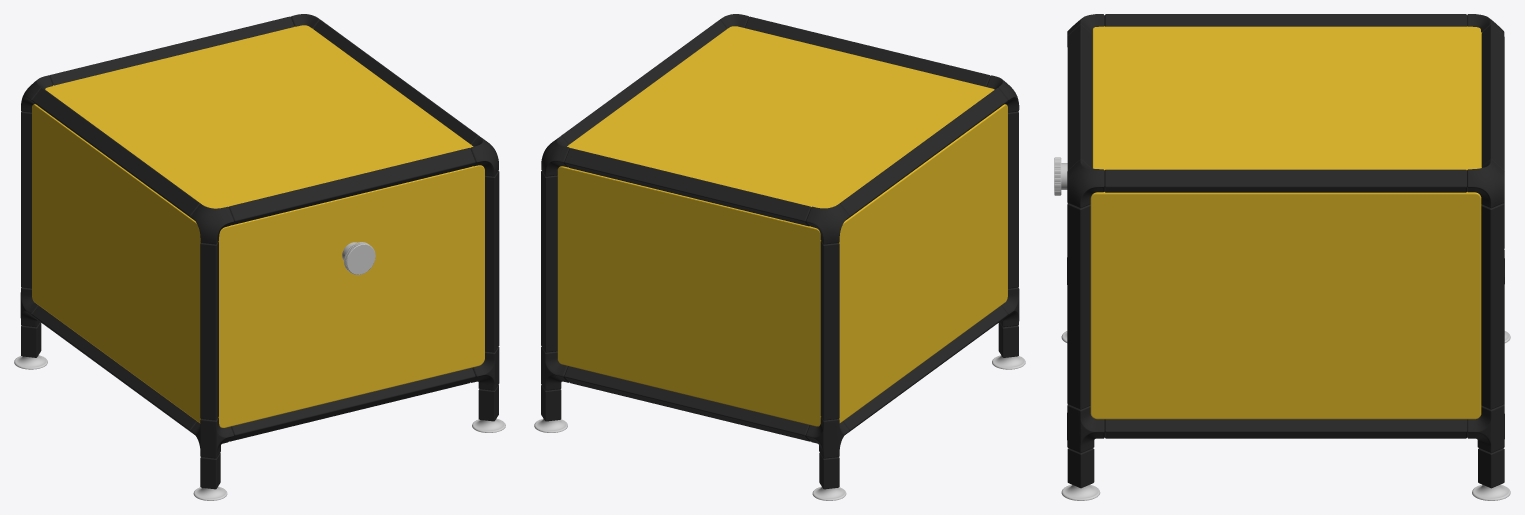
3 views of the same model, side by side, from view 1: azimuth 30°, elevation 25°; view 2: azimuth 150°, elevation 25°; view 3: azimuth 270°, elevation 25° (orthographic). The views are drawn at different scales.
Parts seen in each view (by area): view 1: 329x374x229; view 2: 329x374x229; view 3: 329x374x229.
Part boxes in pixels (left/top/right/bottom): 329x374x229: left=14, top=14, right=505, bottom=500; 329x374x229: left=534, top=14, right=1025, bottom=500; 329x374x229: left=1054, top=14, right=1510, bottom=500.
Size of the model in its own units: 0.4189 by 0.3683 by 0.4707.
